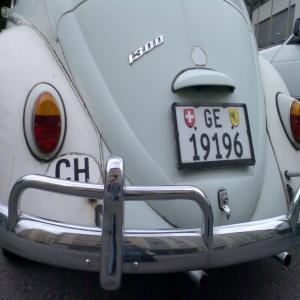Vehicle-registration-plate: (177, 100, 253, 172)
